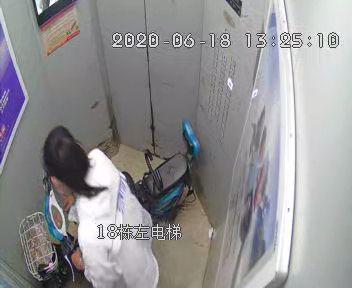Electric-bicycle: (22, 120, 199, 275)
